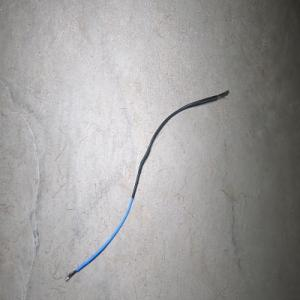Wire: (65, 88, 229, 281)
